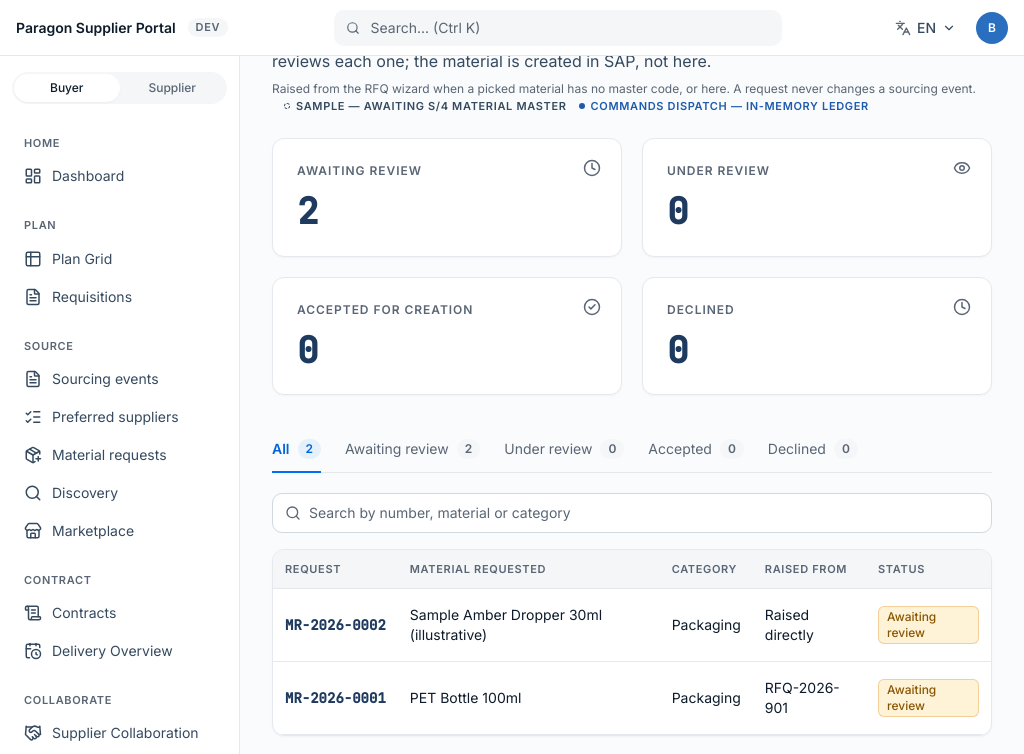
⚠️ THE REVIEW/DECIDE SPLIT RENDERS — no page-level gate › a seat holding REVIEW but not DECIDE sees the review act live and a notice on the decisions
(page scrolled)
Click the text "MR-2026-0001" at (632, 698), box [273,662,991,735]
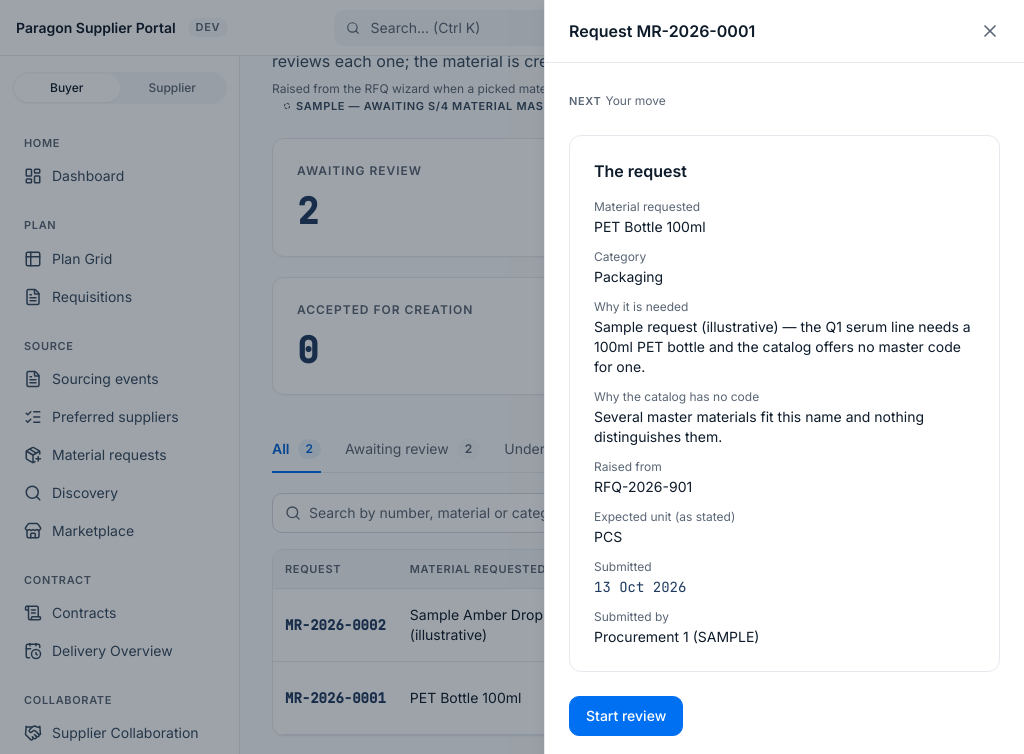
Expected: the button with test id "material-request-start-review" is shown, [569,696,683,736]
